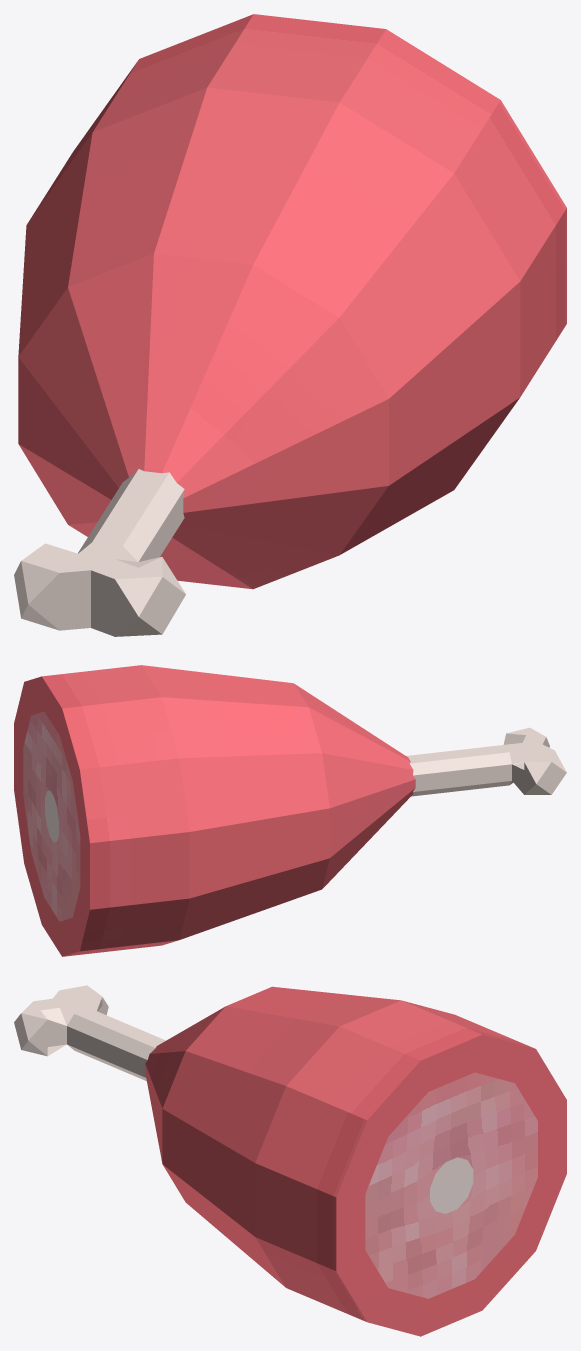
File: ham-optimized.glb
3 views of the same model, one above another, from view 1: azimuth 30°, elevation 25°; view 2: azimuth 150°, elevation 25°; view 3: azimuth 270°, elevation 25° (orthographic). The views are drawn at different scales.
Visible parts, largest first — view 1: cylinder; view 2: cylinder; view 3: cylinder.
Part boxes in pixels (box(x1,y1,x2,y2)): cylinder: box(14, 14, 566, 636); cylinder: box(14, 665, 566, 956); cylinder: box(14, 985, 566, 1336).
Bounding box in the file's own units: 0.7947 × 0.4375 × 0.7947.
Materials: 2 (2 with a texture image).
